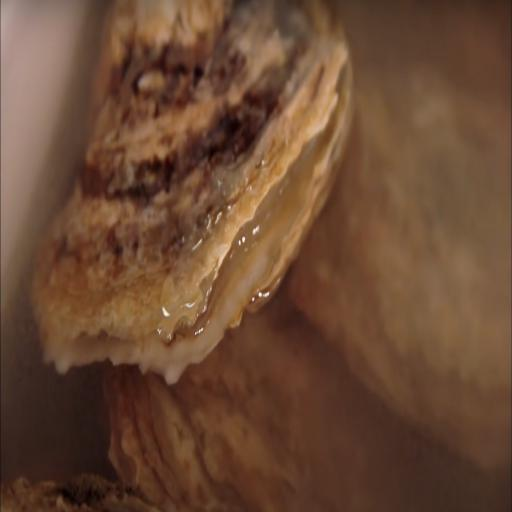Oyster-Closed: (285, 64, 512, 474)
Oyster-Open: (32, 1, 353, 380), (100, 292, 512, 512)
